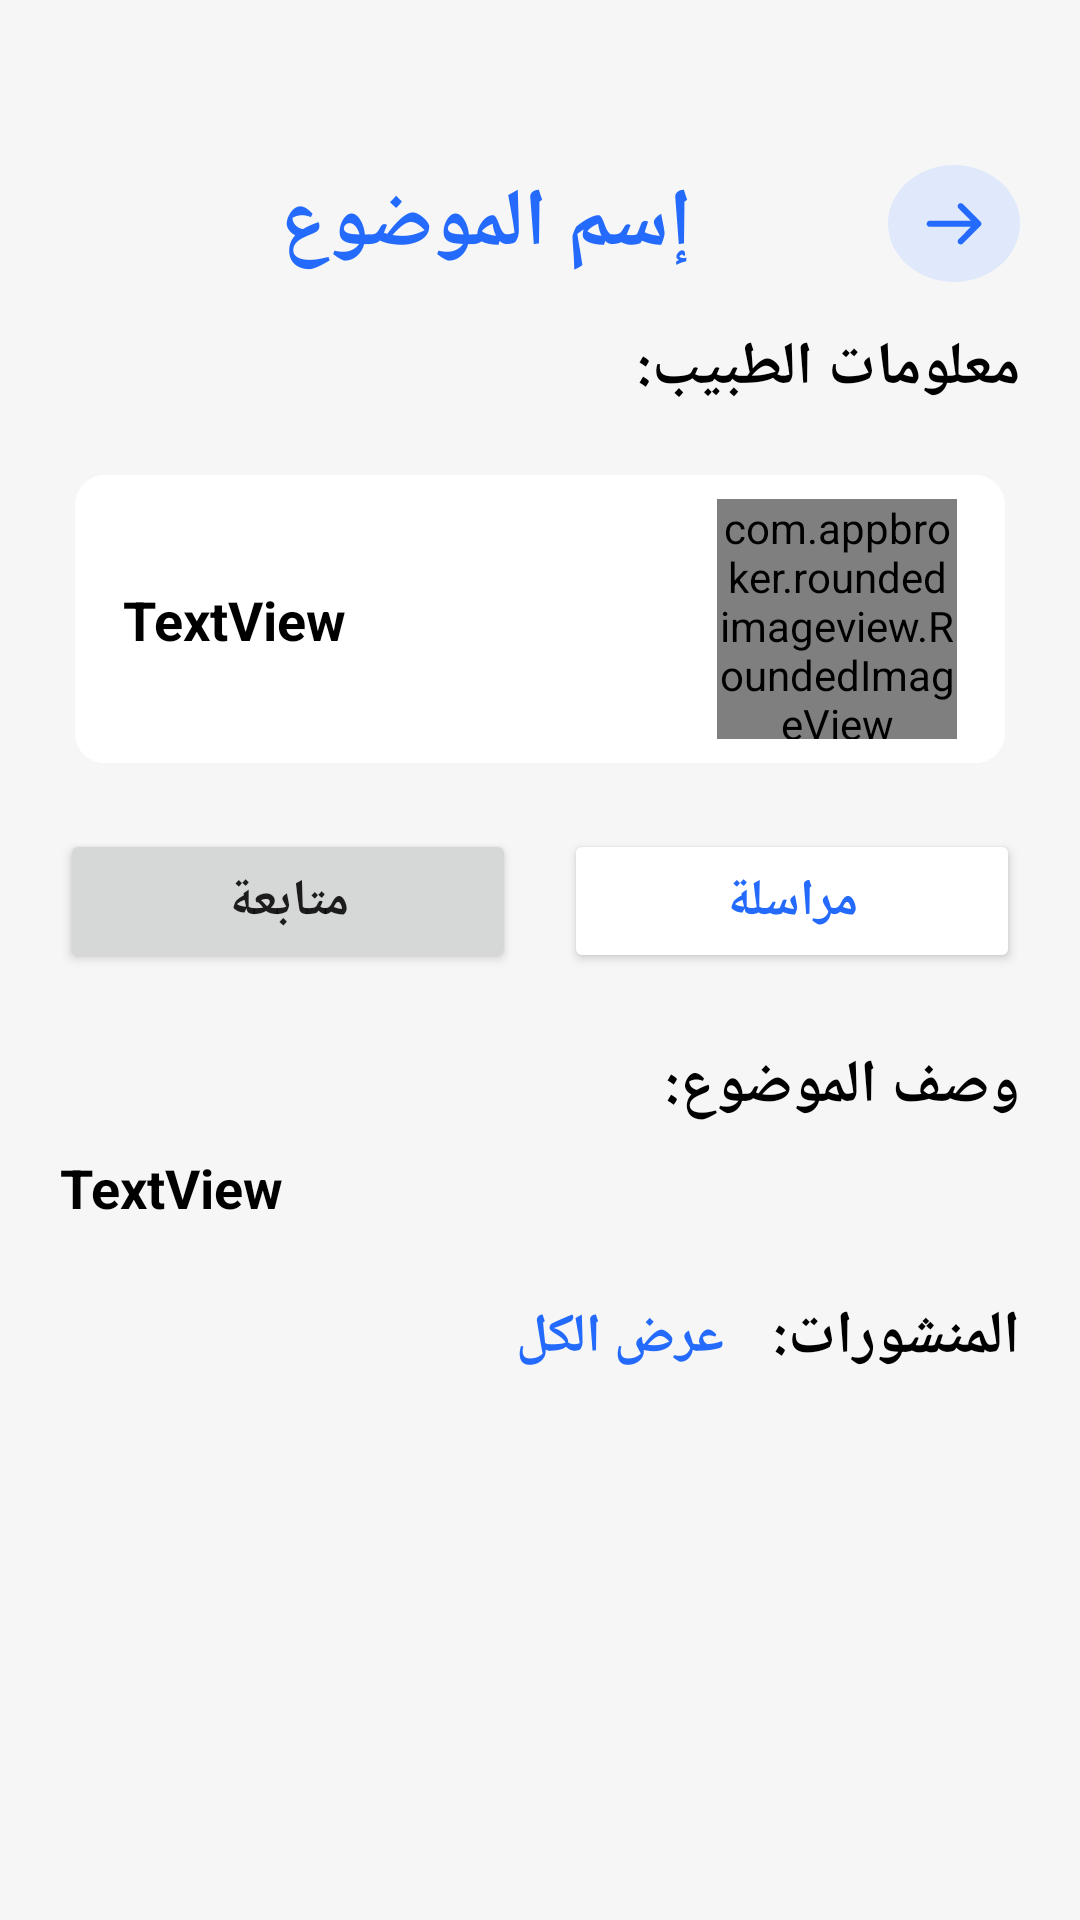

Named icons in this screenshot (1080 x 1920) and their bounding boxes, (x1, y1, x2, y2):
arrow: (888, 165, 1020, 282)
